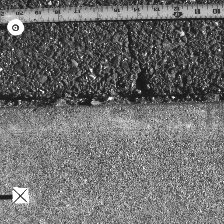circle: (6, 19, 24, 35)
crack: (1, 90, 223, 109)
square: (12, 187, 29, 204)
